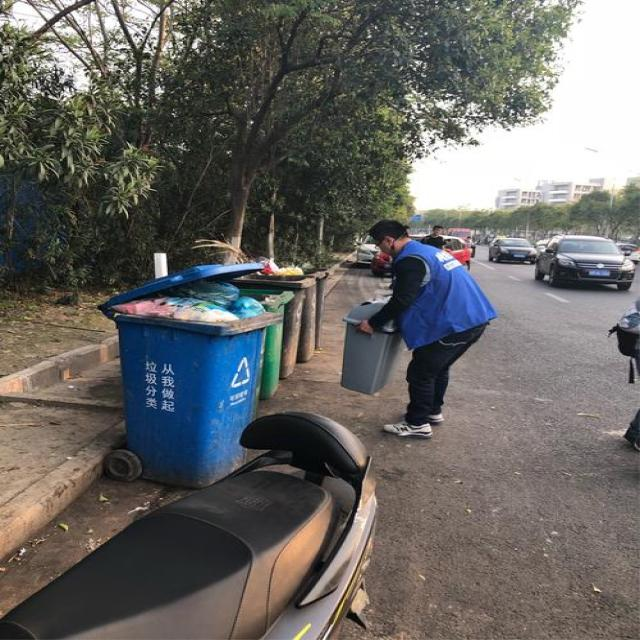overflow: (100, 261, 276, 486)
